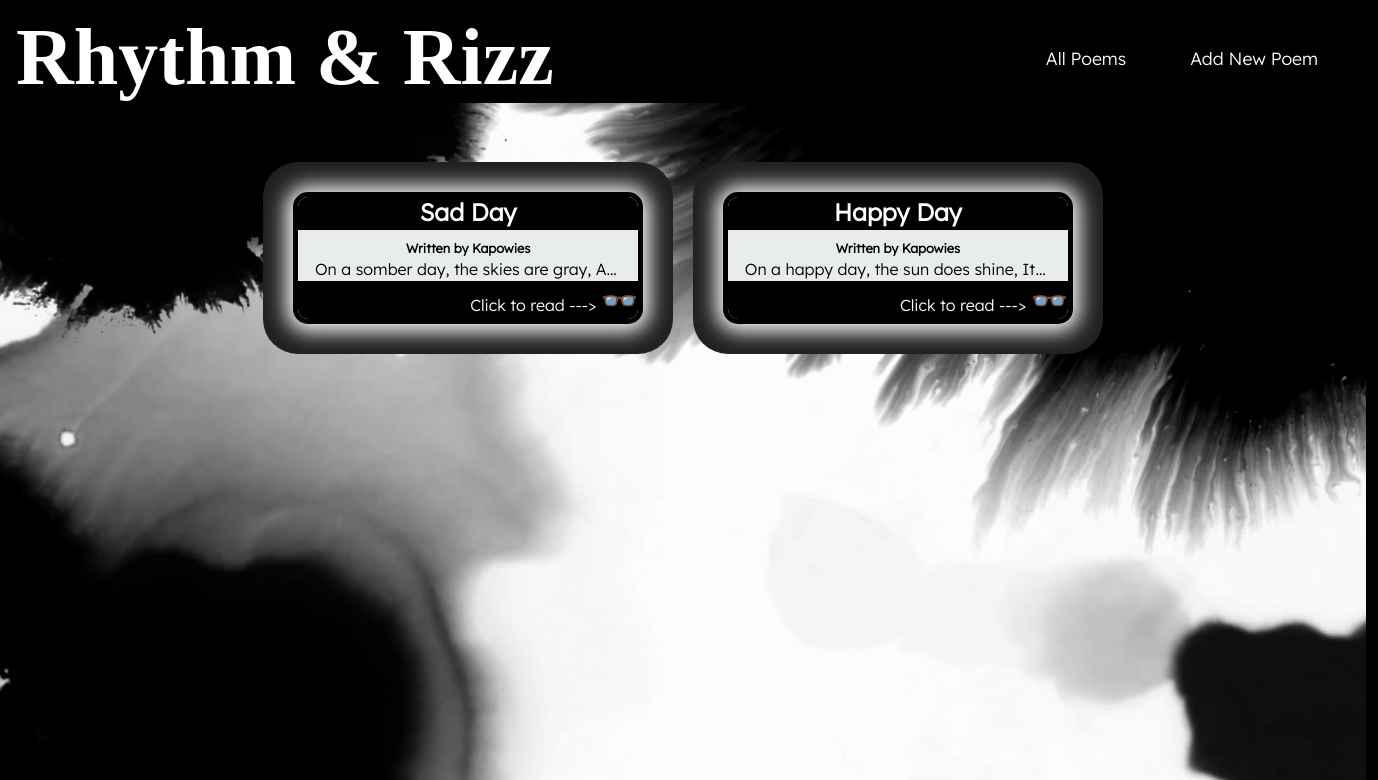
Test: Single Card Spec › Should show a selected poem page
Click the element that starts with "Sad Day". click: (468, 259)
box: [293,192,643,325]
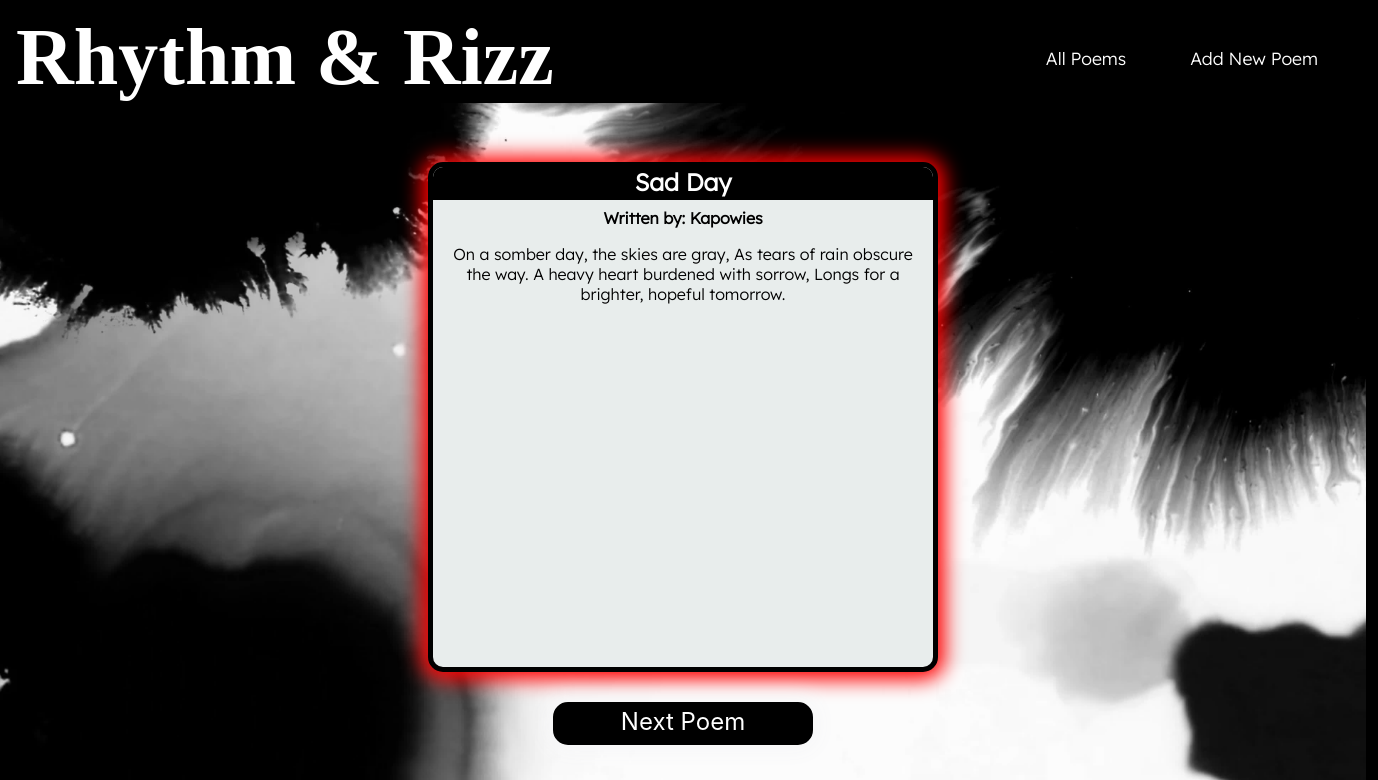
Expected: the element with class "nav-buttons" is shown, [1030,31,1334,85]
Expected: the number of elements with class "single-poem-card" is 1, [428,162,938,672]
Expected: the link with class "random-poem" reads "Next Poem", [553,702,813,745]
